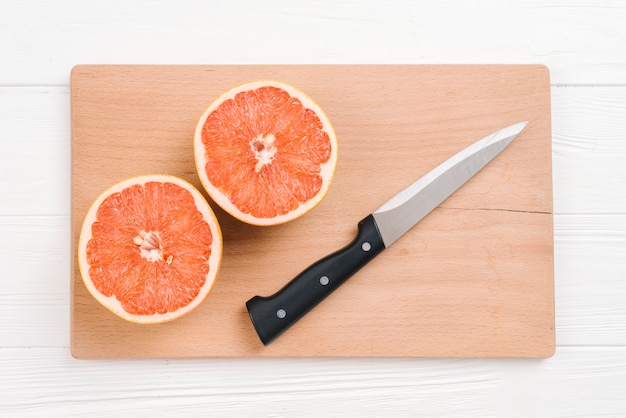knife: (240, 117, 534, 351)
